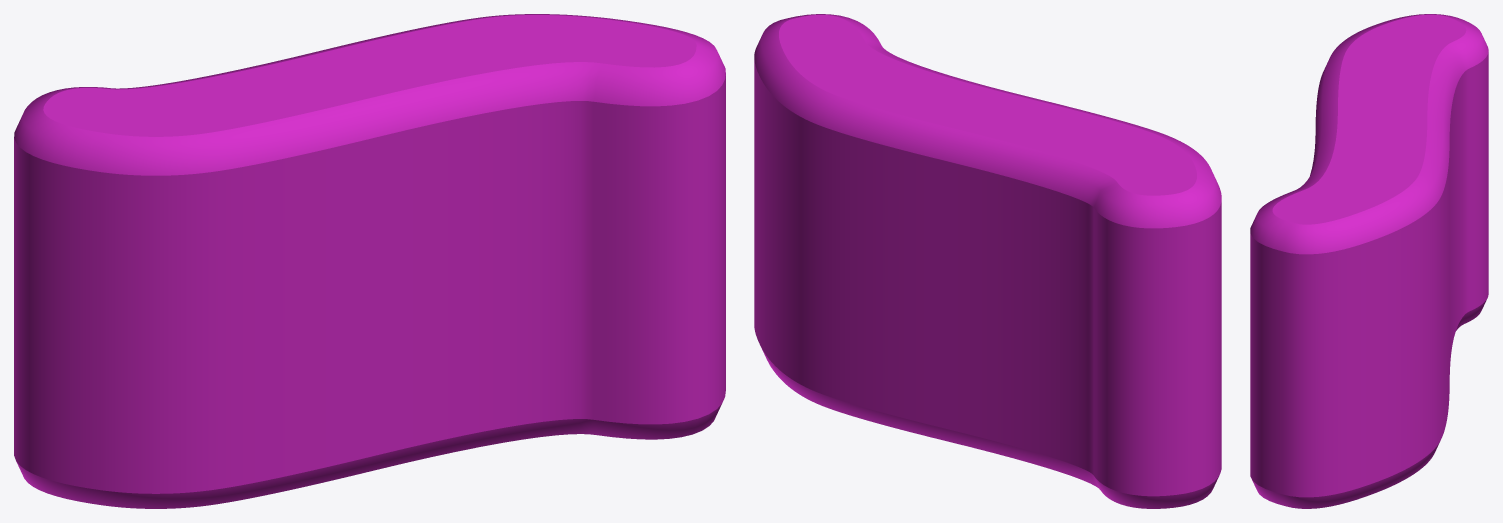
File: MinusSign.fbx
The picture shows the model from 3 angles, left to right: view 1: azimuth 30°, elevation 25°; view 2: azimuth 150°, elevation 25°; view 3: azimuth 270°, elevation 25°; orthographic projection. The views are drawn at different scales.
Visible parts, largest first — view 1: MinusSign; view 2: MinusSign; view 3: MinusSign.
Part boxes in pixels (bbox=[...]): MinusSign: bbox=[14, 14, 725, 508]; MinusSign: bbox=[754, 14, 1221, 508]; MinusSign: bbox=[1250, 14, 1488, 508].
Size of the model in its own units: 0.2424 by 0.14 by 0.1067.
